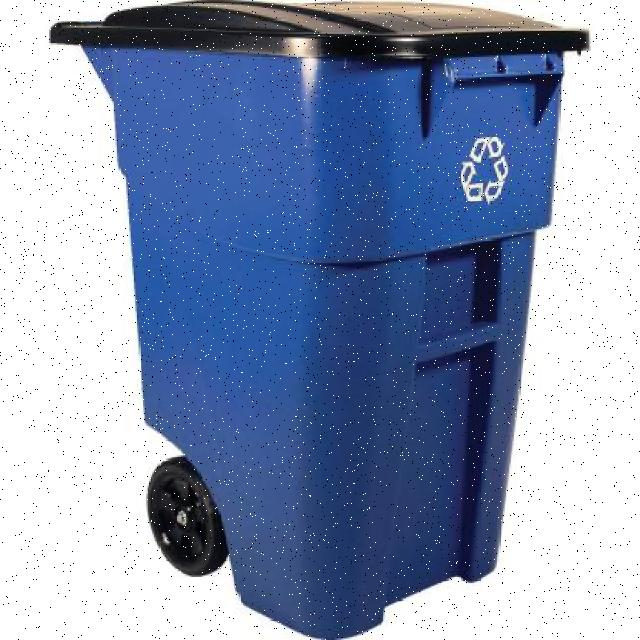garbage container: (41, 1, 596, 639)
